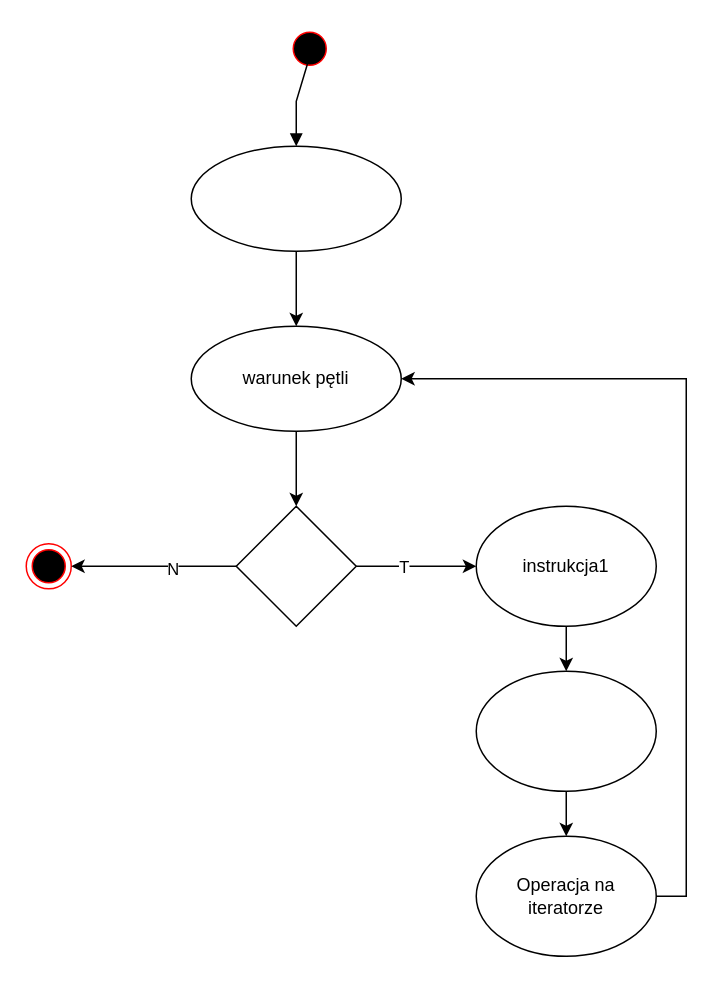
The diagram is 725 pixels wide and 983 high, and some of its shapes have lost their labels. The shapes that lost their labels are listed below. From the top down, each one's centre as x and y in pixels, then its label:
At (295,198): "inicjowanie iteratora".
At (565,730): "instrukcja2".
